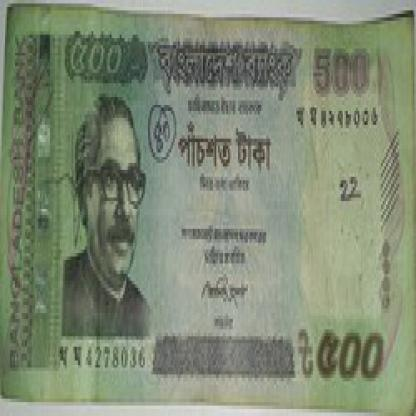500 taka: (175, 118, 286, 184), (58, 24, 142, 83)
currency: (3, 7, 414, 409)
